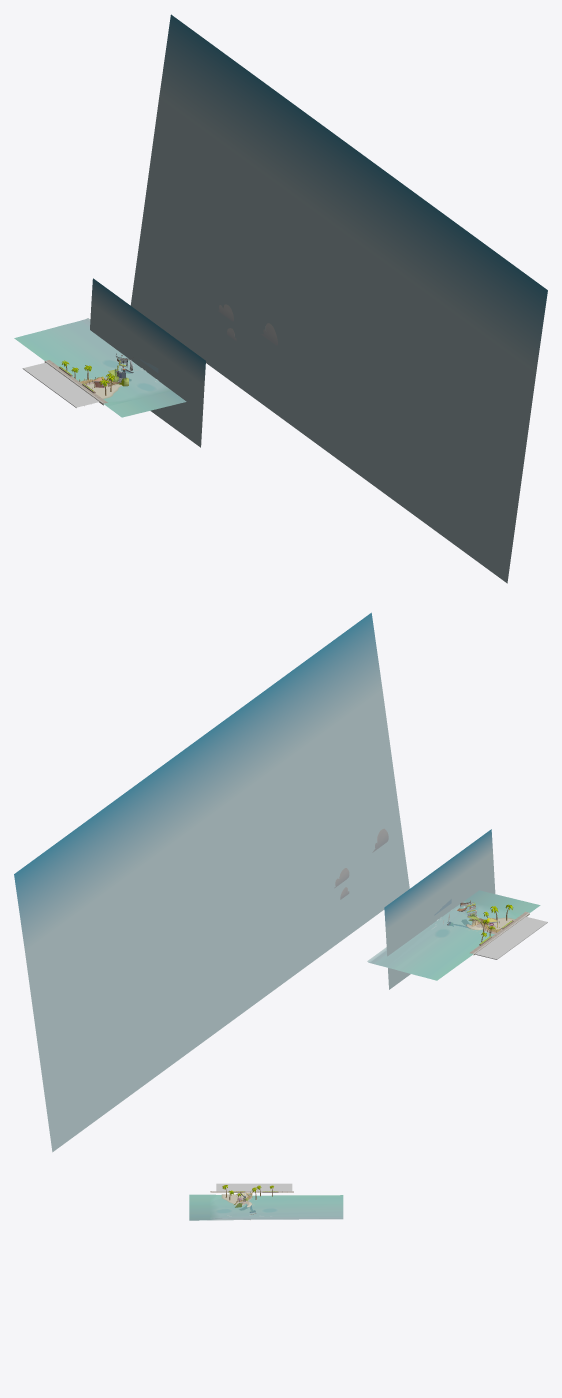
Rendered from Angela_Yard_Flattened.glb.
3 renders of one model, top to bottom at view 1: azimuth 30°, elevation 25°; view 2: azimuth 150°, elevation 25°; view 3: azimuth 270°, elevation 25°, orthographic. The views are drawn at different scales.
Parts seen in each view (by area): view 1: Background_Sky, Gradient, Static_water, Static_Street; view 2: Background_Sky, Gradient, Static_water, Static_Street; view 3: Static_water, Static_Street, Static_SeaReflection_L0_L1_L2_L3_L4_L5.
Part boxes in pixels (box(x1,y1,x2,y2)): Background_Sky: box(130, 14, 547, 583); Gradient: box(90, 278, 205, 447); Static_water: box(14, 320, 186, 417); Static_Street: box(22, 362, 99, 407); Background_Sky: box(14, 612, 409, 1152); Gradient: box(384, 829, 495, 989); Static_water: box(368, 890, 540, 980); Static_Street: box(475, 916, 547, 959); Static_water: box(189, 1194, 343, 1219); Static_Street: box(216, 1183, 292, 1191); Static_SeaReflection_L0_L1_L2_L3_L4_L5: box(189, 1215, 343, 1220).
Bounding box in the file's own units: 52.86 × 43.57 × 105.
